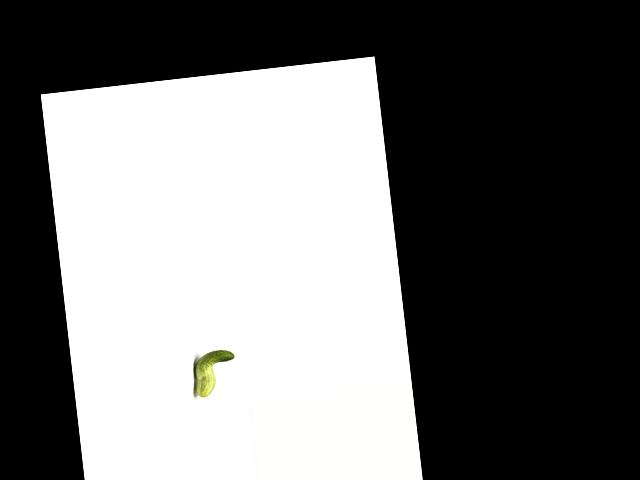cucumber: (191, 348, 238, 397)
